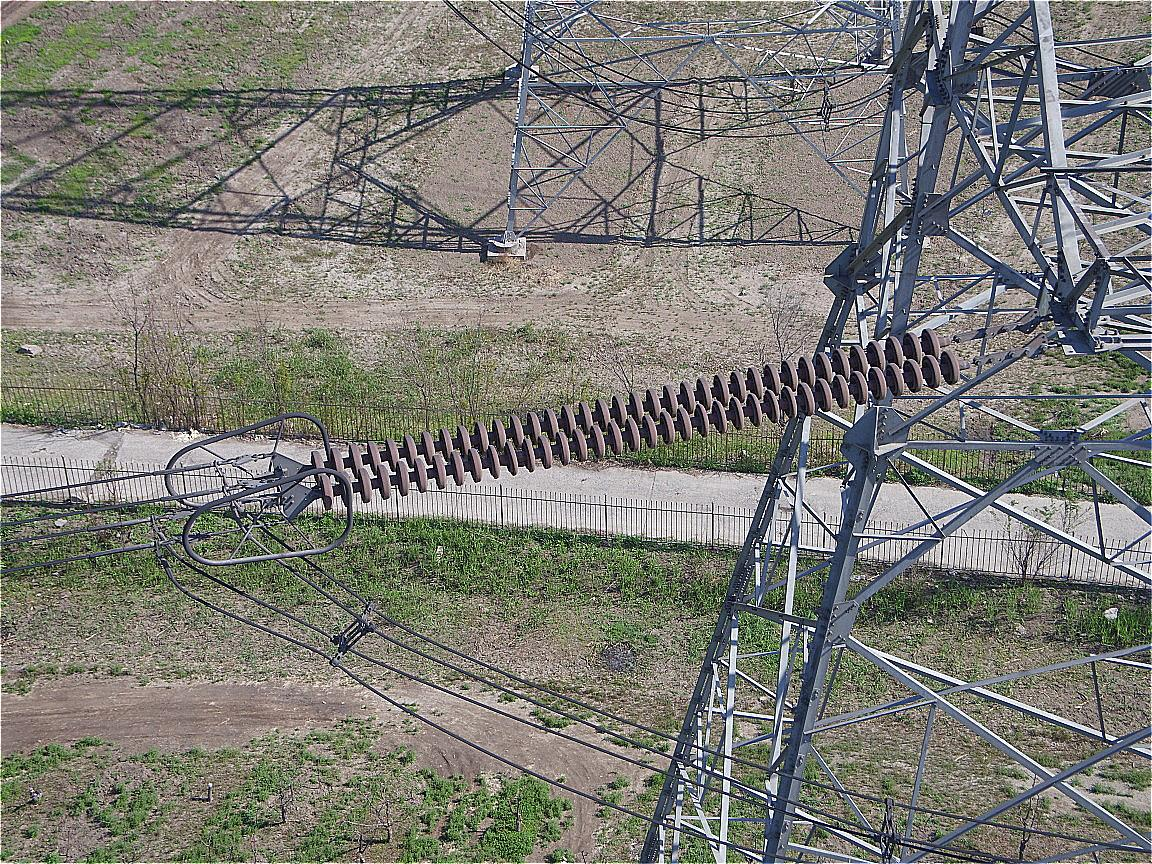insultor1: (310, 327, 960, 510)
